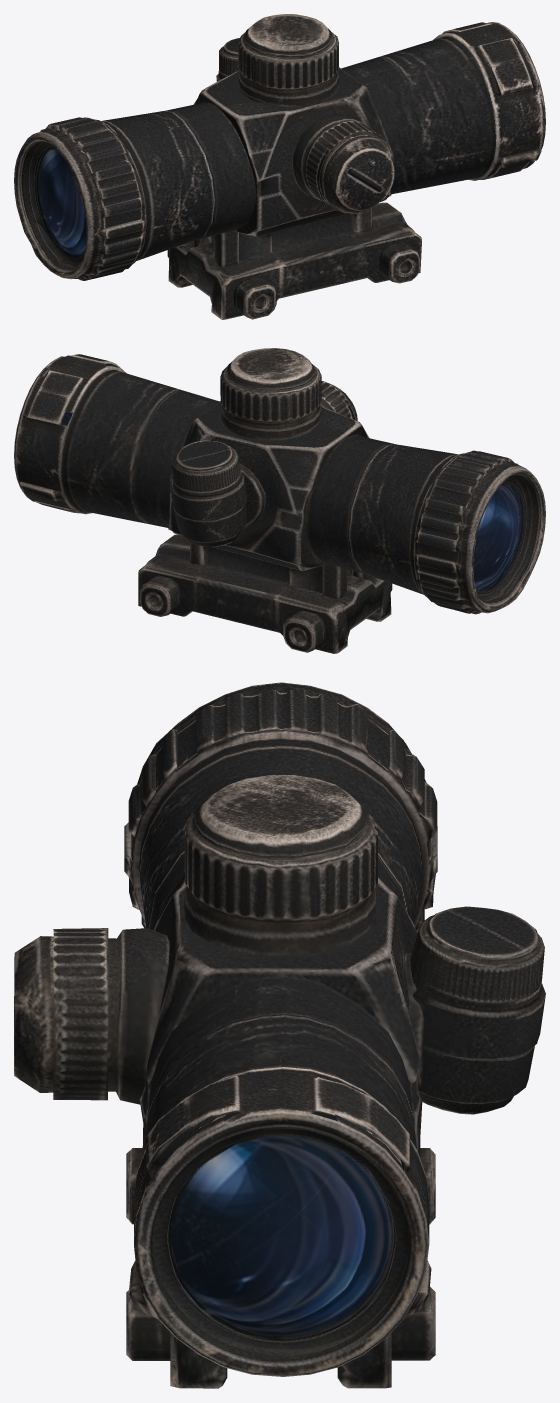
File: scope.glb
3 renders of one model, top to bottom at view 1: azimuth 30°, elevation 25°; view 2: azimuth 150°, elevation 25°; view 3: azimuth 270°, elevation 25°, orthographic. The views are drawn at different scales.
Size of the model in its own units: 0.9565 by 0.4893 by 0.4897.
1 material, 1 textured.
